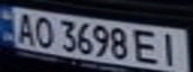3: (54, 18, 78, 53)
6: (72, 20, 93, 56)
8: (109, 25, 133, 61)
9: (90, 22, 112, 58)
A: (9, 9, 39, 45)
E: (133, 27, 163, 65)
I: (154, 29, 187, 68)
O: (30, 14, 57, 48)
